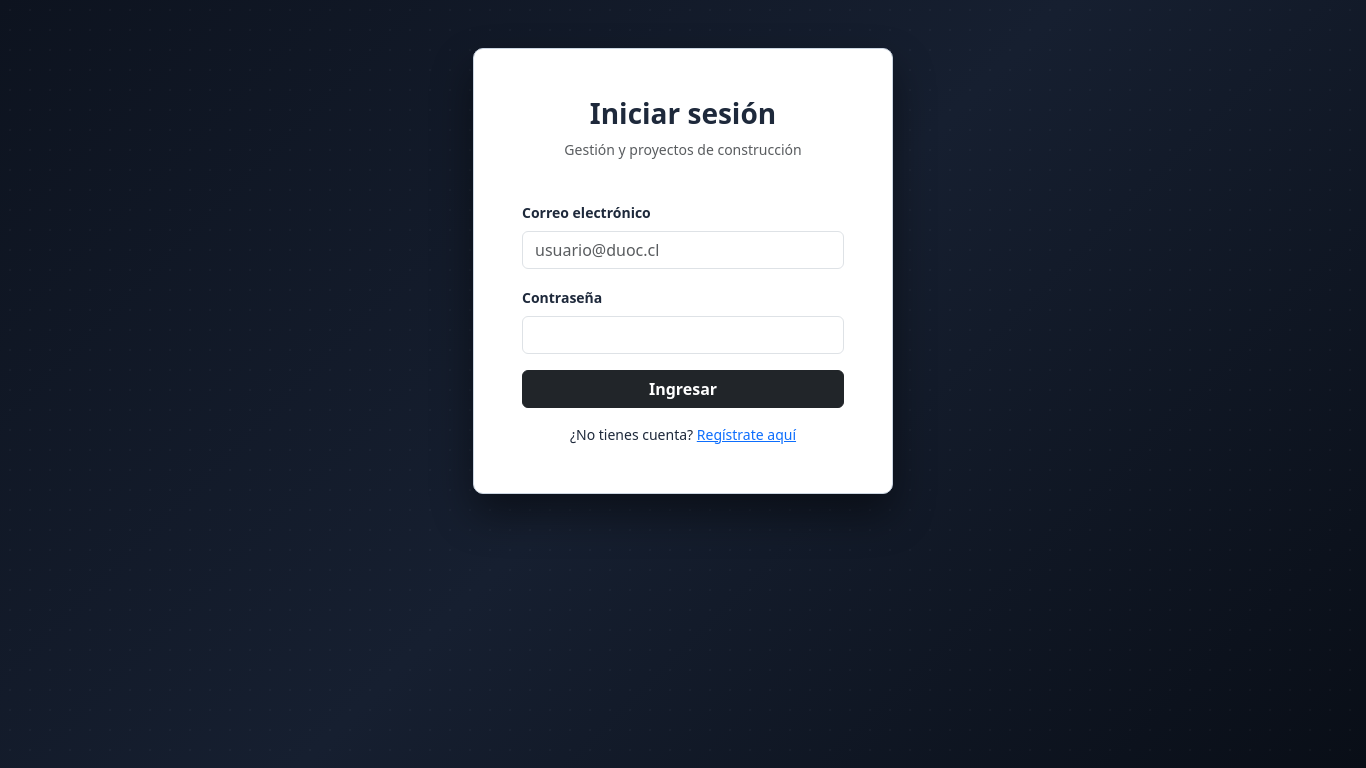
Test: Pruebas de estado: Login › valida en tiempo real y muestra el error mientras se escribe un dominio no permitido
Step 1. Type "juan@hotmail.com" into the field labelled "Correo electrónico" → (683, 250), box [522,231,844,269]
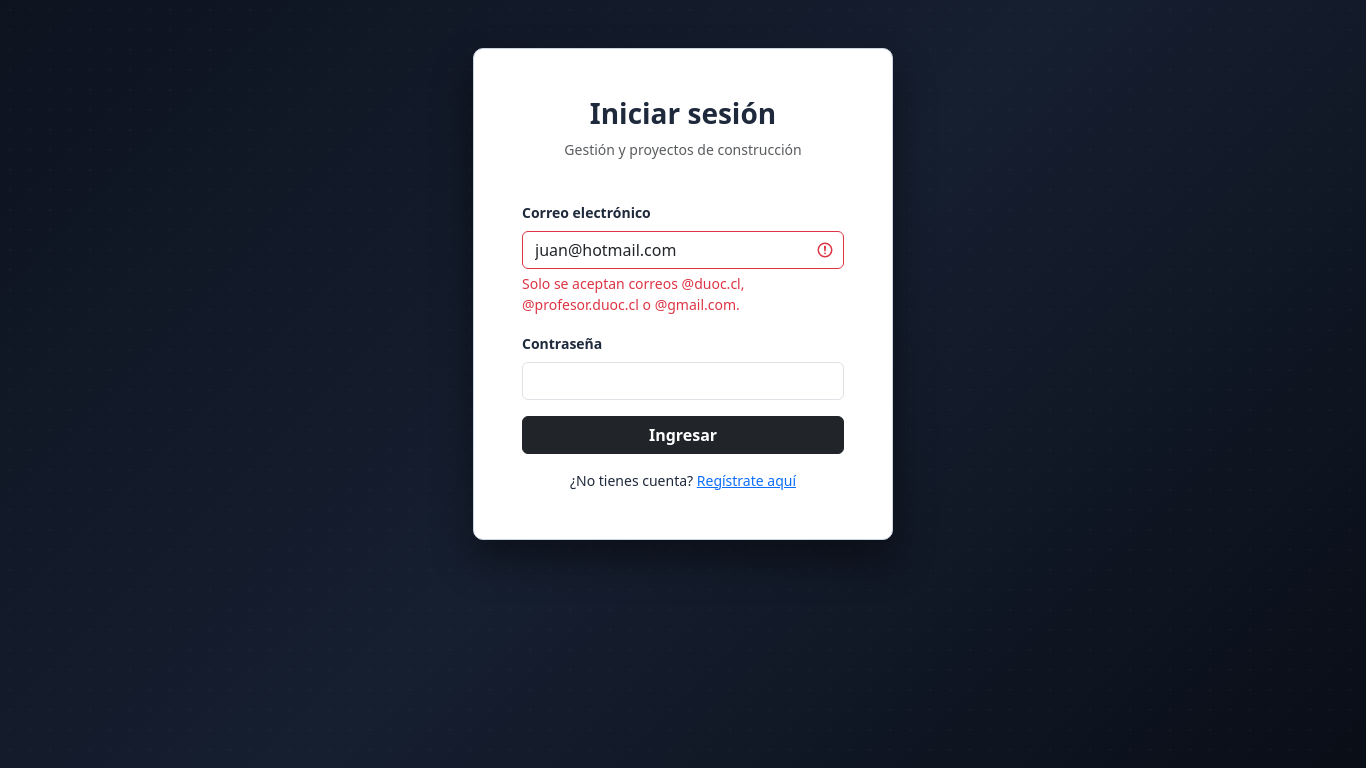
Expected: the message with test id "error-correo" shows "Solo se aceptan correos", [522,274,744,314]
